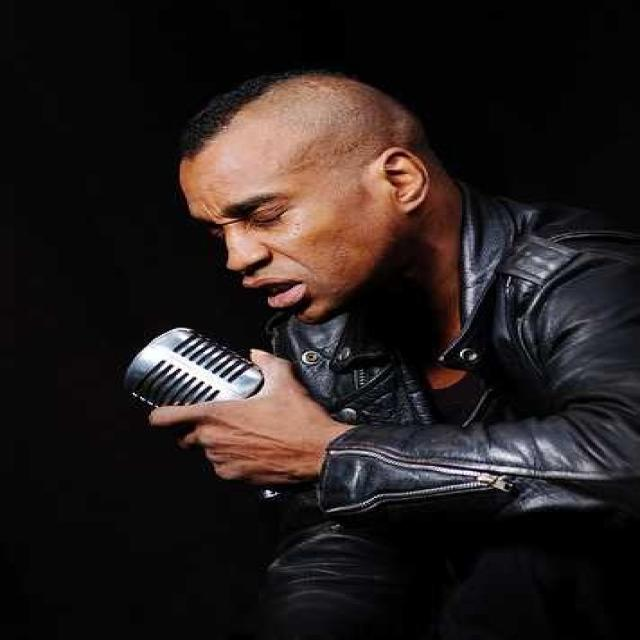microphone: (121, 323, 285, 498)
